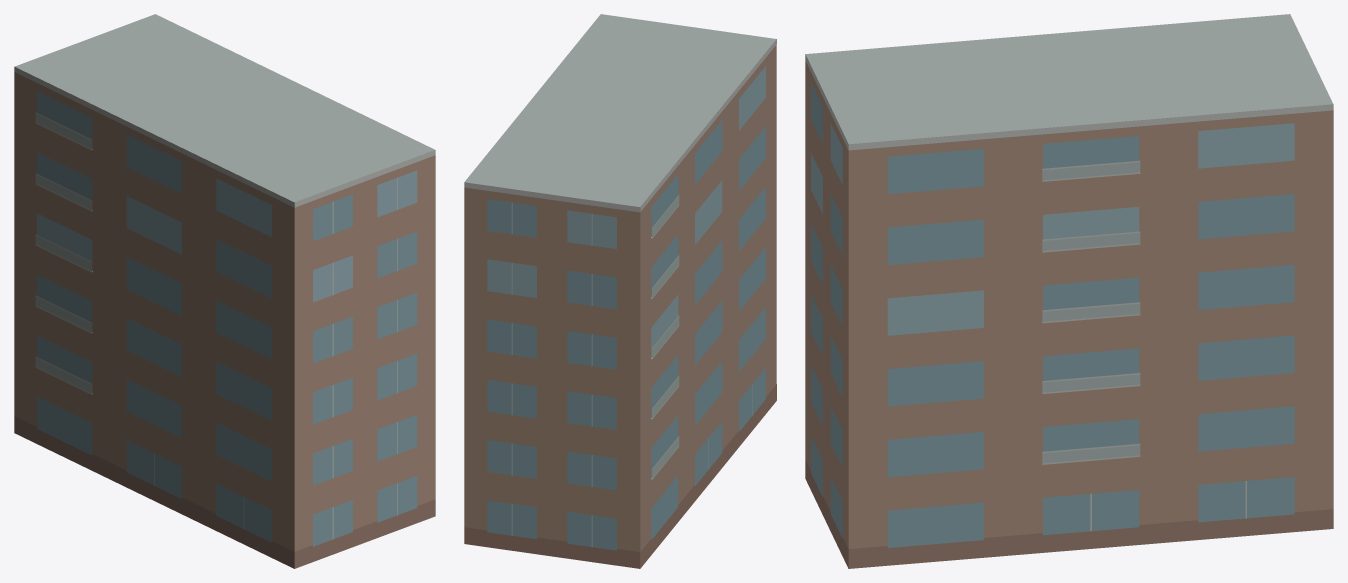
File: survey-upis-32637197.glb
3 views of the same model, side by side, from view 1: azimuth 30°, elevation 25°; view 2: azimuth 150°, elevation 25°; view 3: azimuth 270°, elevation 25° (orthographic). The views are drawn at different scales.
Parts seen in each view (by area): view 1: survey-upis-32637197.tmp; view 2: survey-upis-32637197.tmp; view 3: survey-upis-32637197.tmp.
Boxes of the visible parts, x1,y1,x2,y2 form: survey-upis-32637197.tmp: [14, 14, 435, 568]; survey-upis-32637197.tmp: [464, 14, 776, 568]; survey-upis-32637197.tmp: [805, 14, 1333, 568].
Size of the model in its own units: 11.14 by 16.9 by 19.06.
